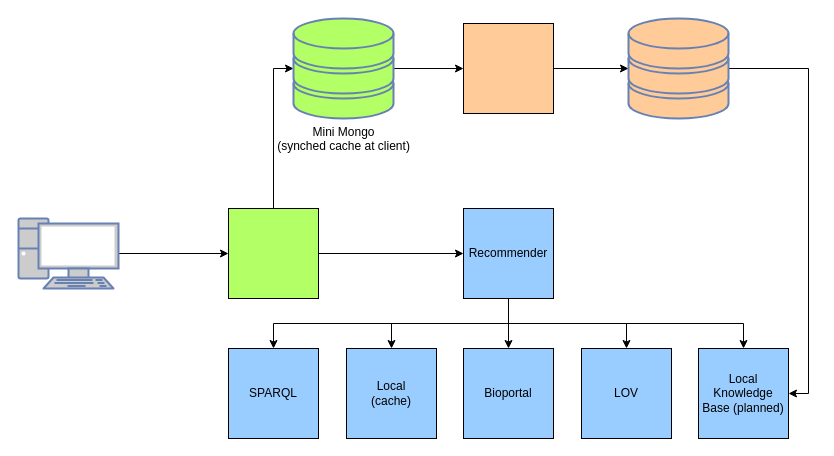
Some shapes in this 834 by 456 pixel diagram are drawn without their labels. The shapes that lost their labels are listed below. From the top down, each one's centre as x and y in pixels, then its label:
pixel 508 68: Meteor Backend
pixel 678 68: Mongo DB (user management, vocabularies, features)
pixel 273 253: Frontend
